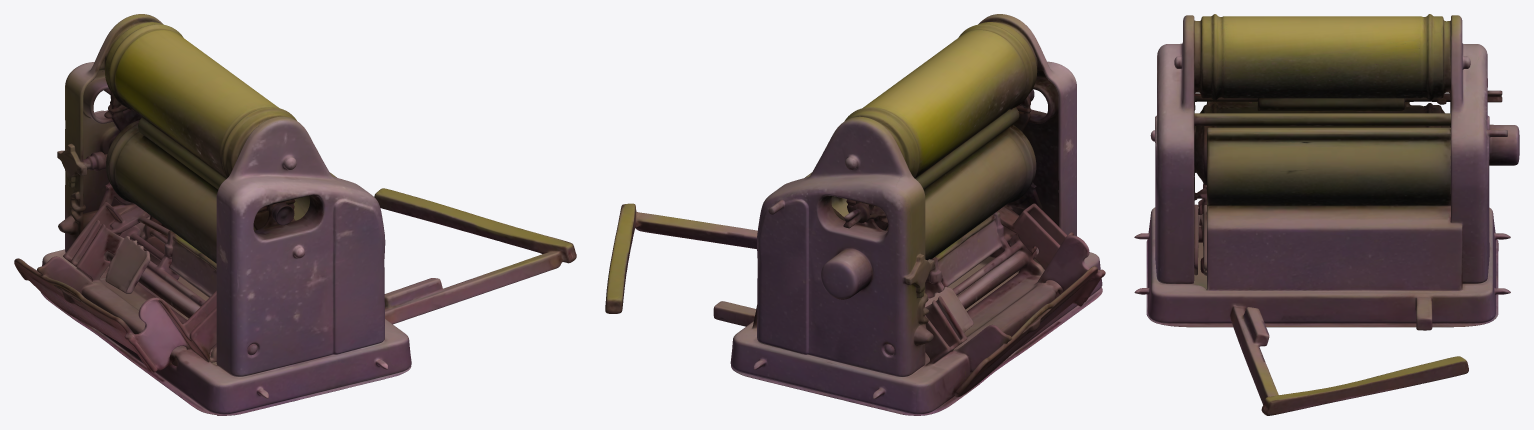
3 views of the same model, side by side, from view 1: azimuth 30°, elevation 25°; view 2: azimuth 150°, elevation 25°; view 3: azimuth 270°, elevation 25° (orthographic). The views are drawn at different scales.
Parts seen in each view (by area): view 1: node_0; view 2: node_0; view 3: node_0.
Boxes of the visible parts, bbox=[...] form: node_0: bbox=[14, 14, 576, 415]; node_0: bbox=[605, 14, 1105, 415]; node_0: bbox=[1134, 14, 1519, 415].
Bounding box in the file's own units: 1.01 × 0.5527 × 0.7677.
Materials: 1 (1 with a texture image).
